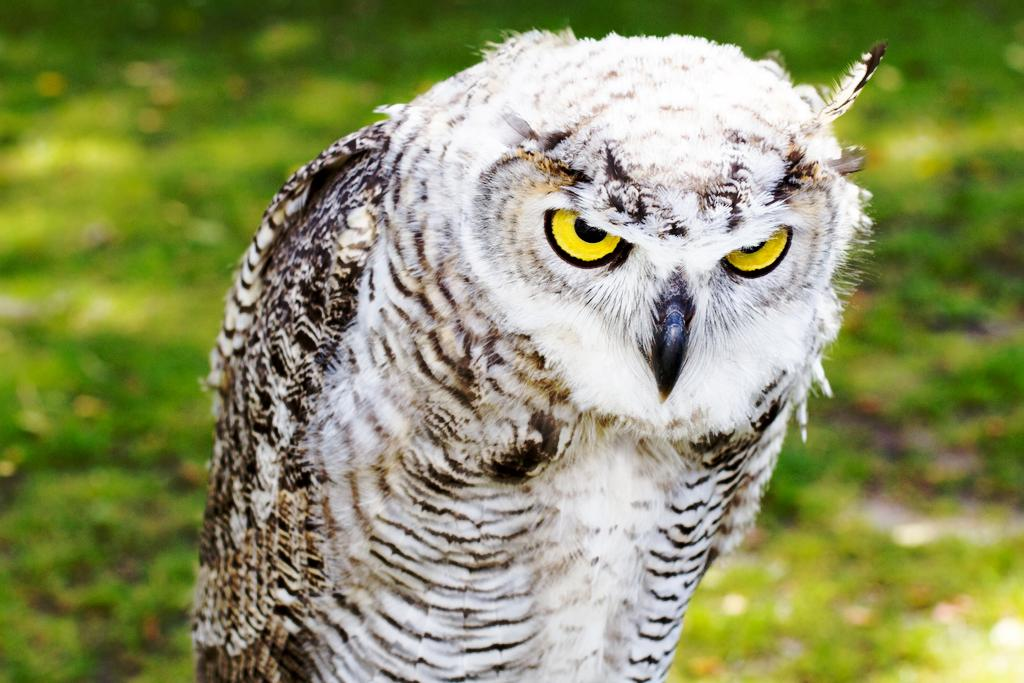Owl: (184, 20, 886, 682)
